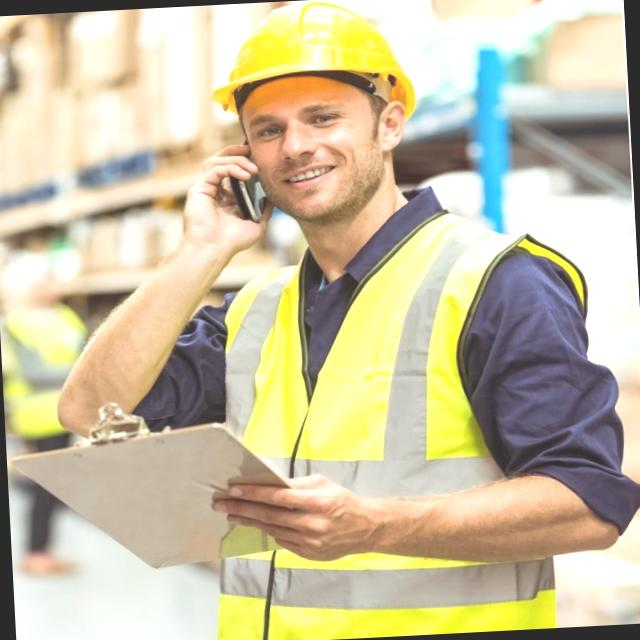helmet: (198, 0, 420, 110)
vest: (194, 223, 630, 640)
